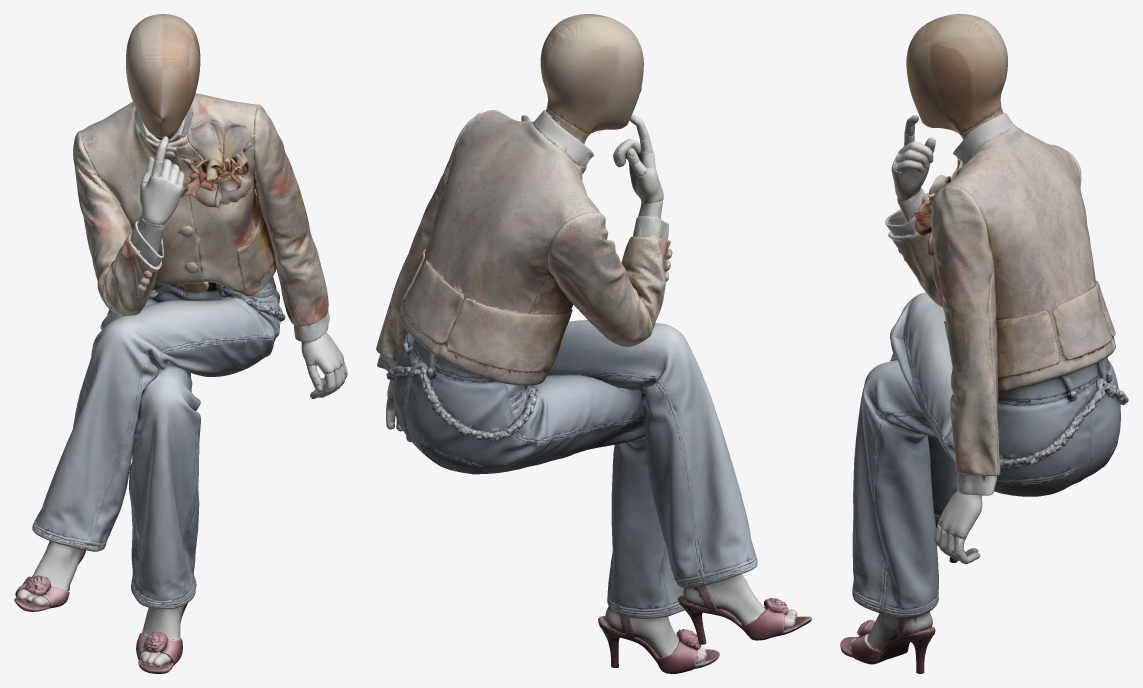
The model's file is maniqui_sentado_diohr_ok.glb.
The picture shows the model from 3 angles, left to right: view 1: azimuth 30°, elevation 25°; view 2: azimuth 150°, elevation 25°; view 3: azimuth 270°, elevation 25°; orthographic projection. The views are drawn at different scales.
Visible parts, largest first — view 1: Object_4; view 2: Object_4; view 3: Object_4.
Boxes of the visible parts, <box> form: Object_4: <box>14,14,347,673</box>; Object_4: <box>376,14,811,673</box>; Object_4: <box>840,14,1128,673</box>.
Bounding box in the file's own units: 0.9353 × 1.51 × 0.5978.
Materials: 1 (1 with a texture image).
